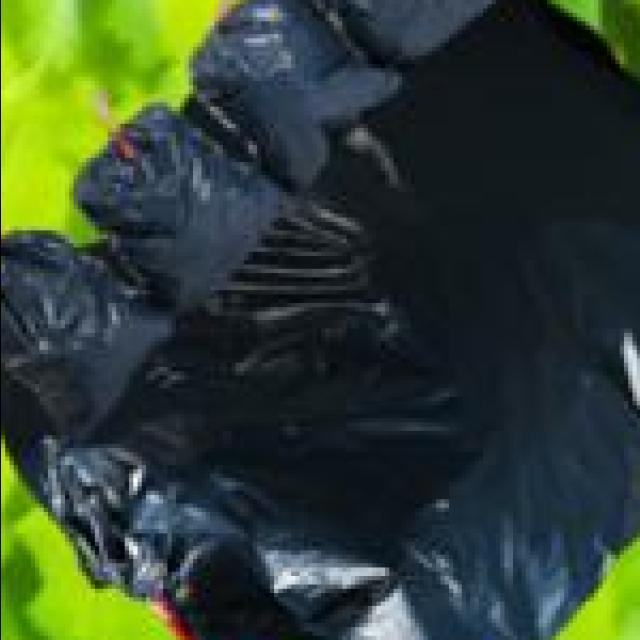Trashbag: (93, 126, 254, 284), (212, 6, 376, 160), (5, 249, 142, 409)
